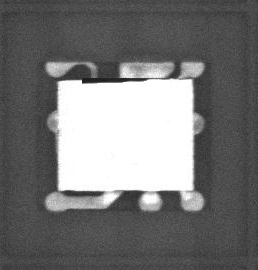DIE_BROKEN: (79, 75, 153, 85)
